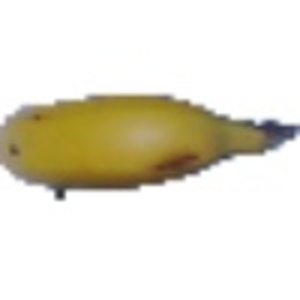banana: (4, 89, 292, 191)
